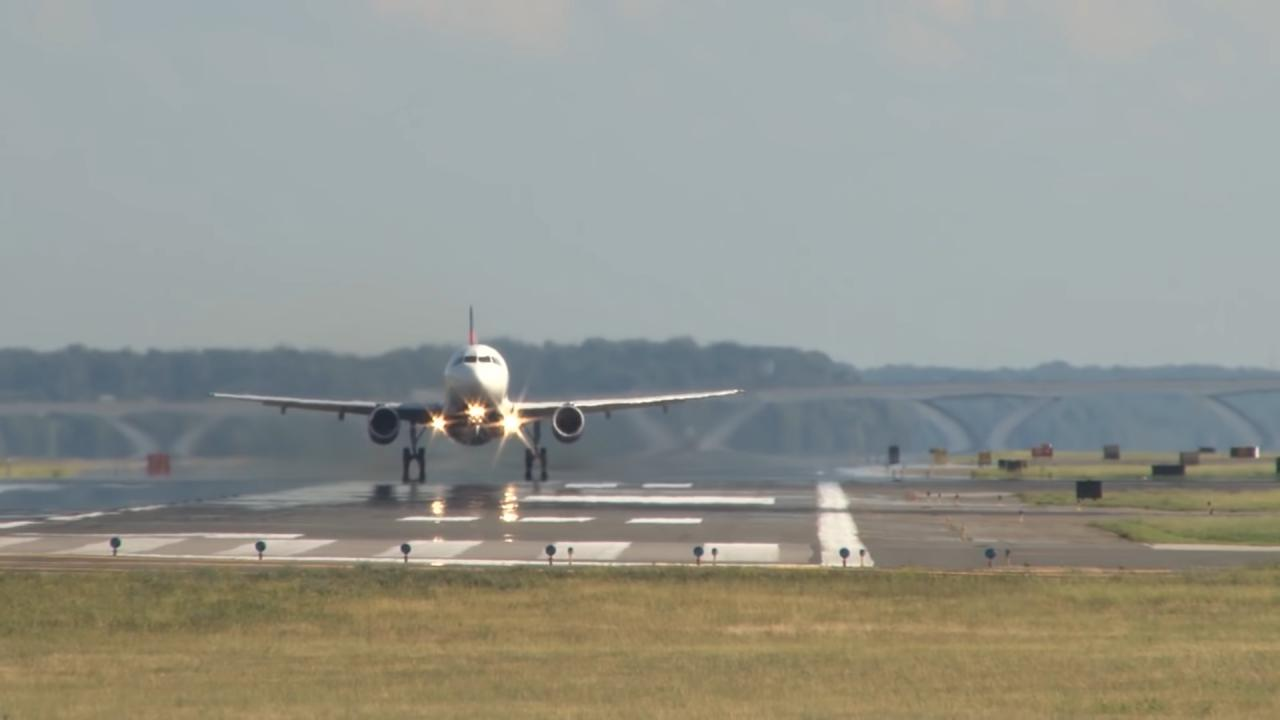Airplane: (202, 288, 743, 505)
